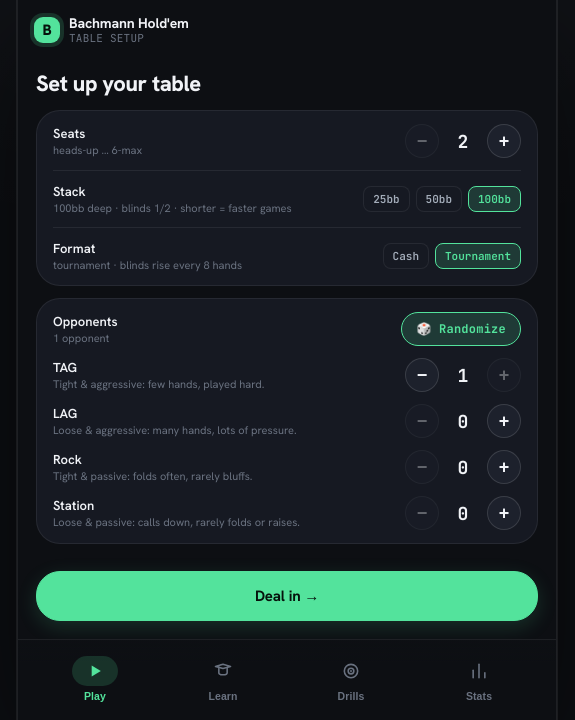
Test case: App — top-level navigation › returns to the setup screen when Play is chosen from Learn
Click the button with test id "tab-learn" at (223, 678), box [160,648,286,708]
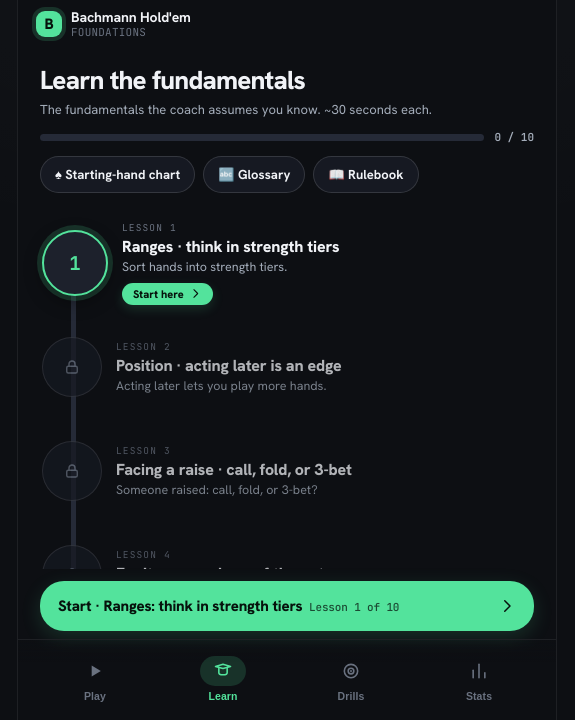
Result: the element with test id "learn" that starts with "Bachmann Hold'em" is shown
// The Learn path's tab bar can navigate back to Play.
Click the button with test id "tab-play" at (95, 678), box [32,648,158,708]
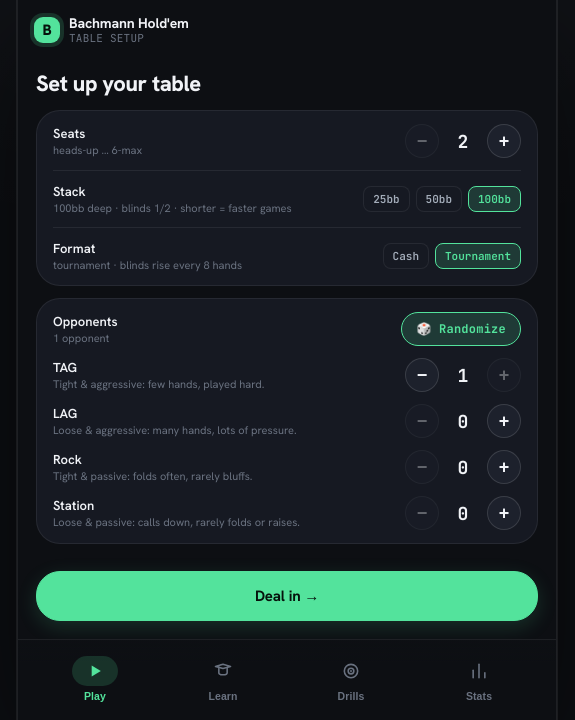
Result: the element with test id "setup" that starts with "Bachmann Hold'em" is shown
